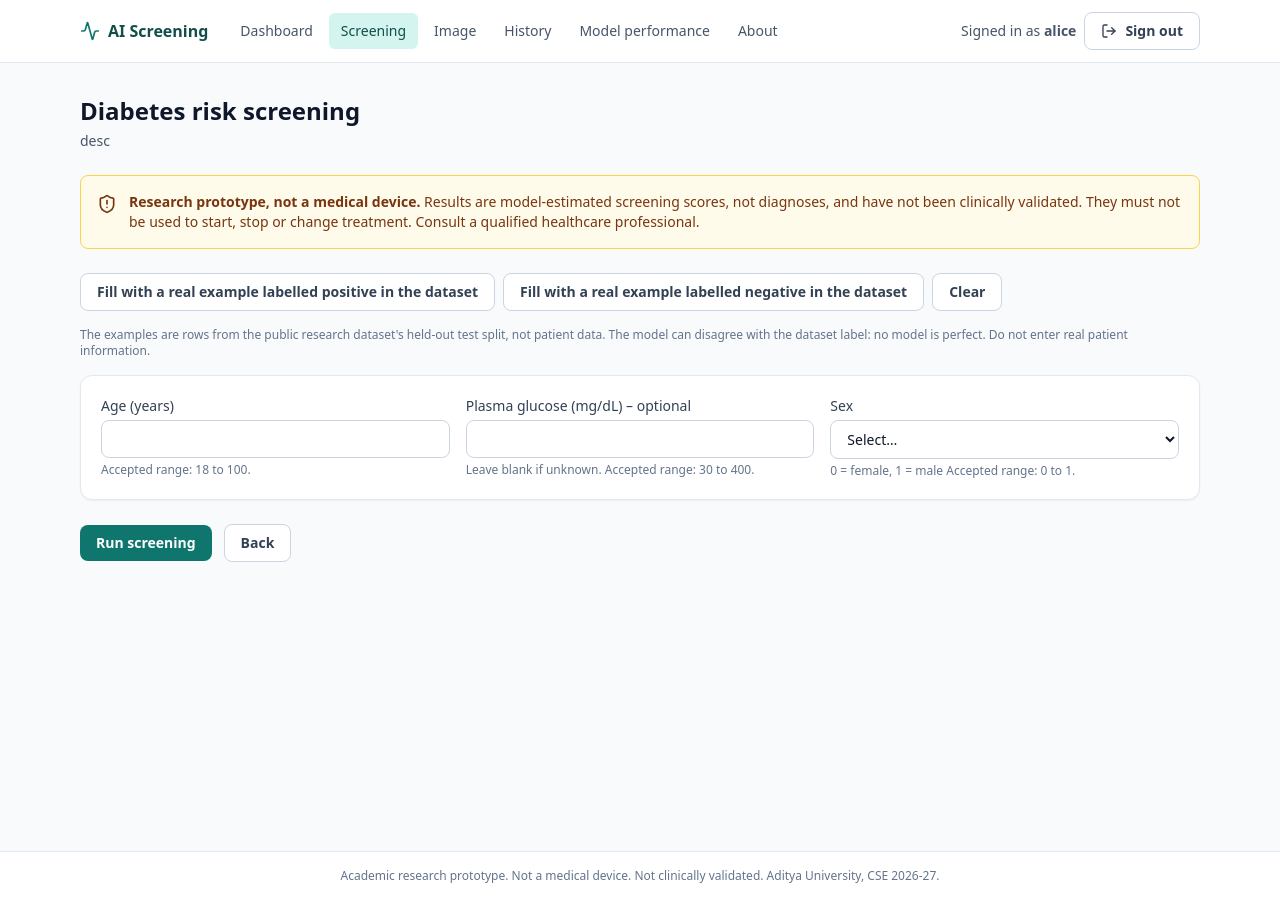
Test: module selection and screening form › blocks submission with invalid values and explains each problem
Click the button "Run screening" at {"x": 146, "y": 543}, box [80, 525, 212, 561]
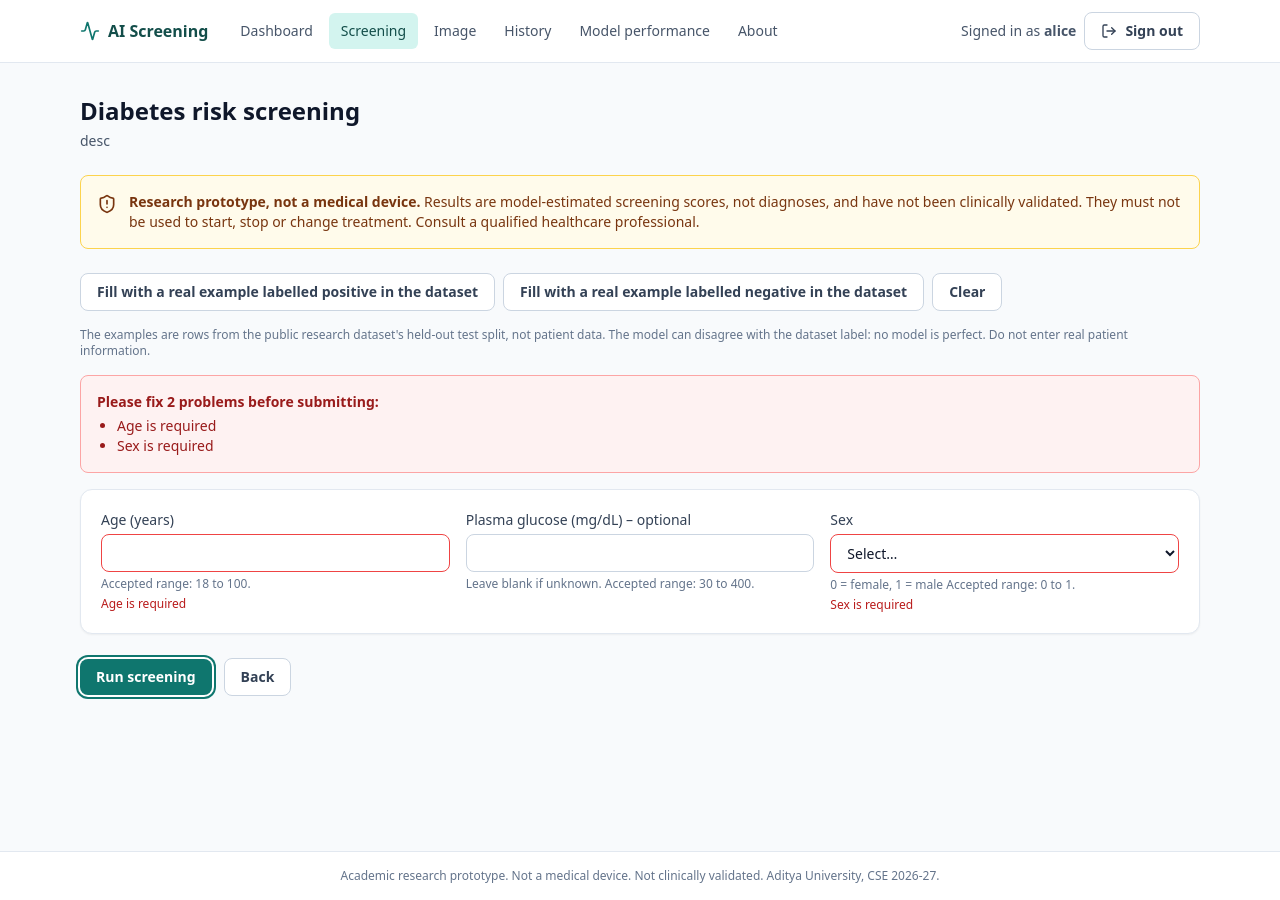
Now the text "Please fix 2 problems before submitting:" is shown, box [97, 392, 379, 411]
